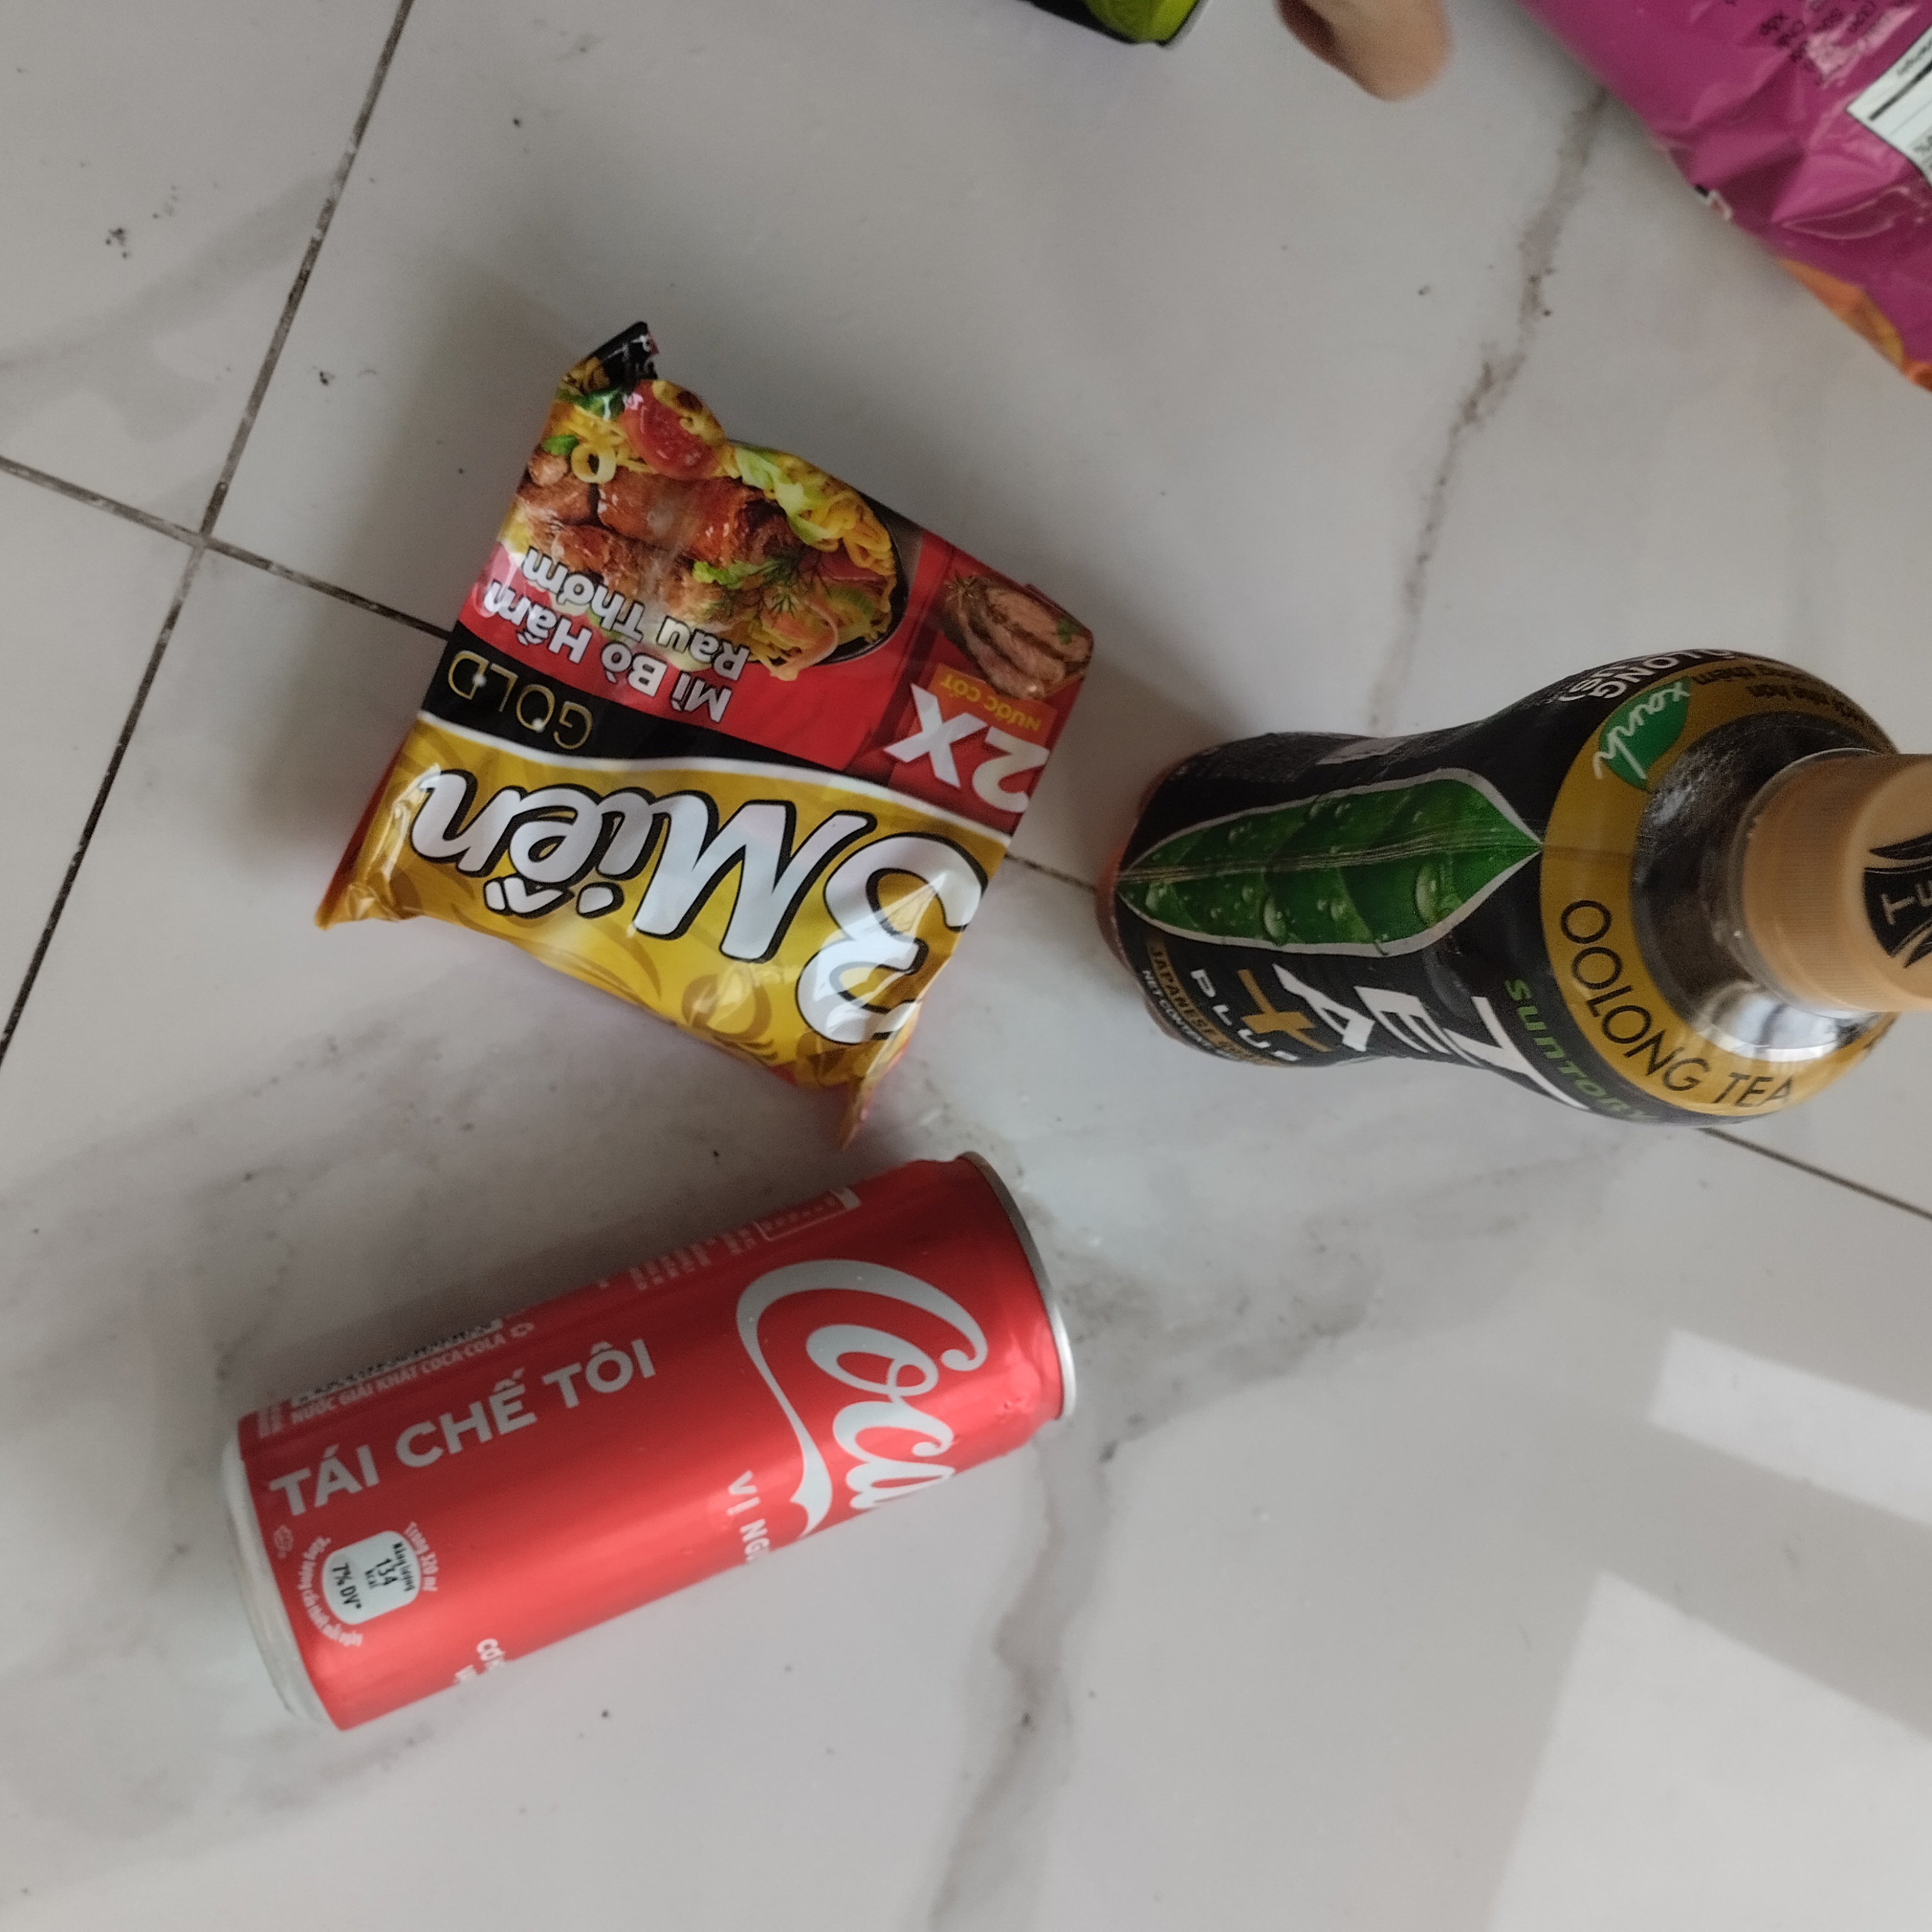3mien: (327, 315, 1097, 1155)
Coca: (198, 1139, 1086, 1739)
Olong: (1092, 640, 1932, 1136)
